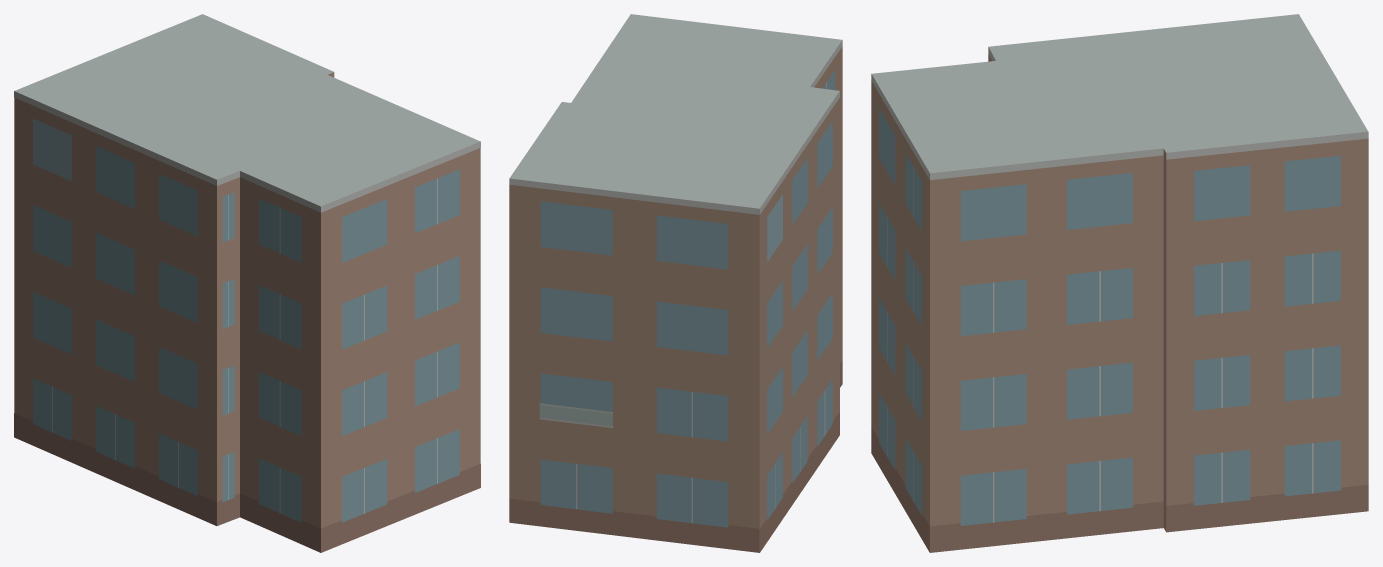
The model's file is survey-upis-32582352.glb.
3 views of the same model, side by side, from view 1: azimuth 30°, elevation 25°; view 2: azimuth 150°, elevation 25°; view 3: azimuth 270°, elevation 25° (orthographic). The views are drawn at different scales.
Parts seen in each view (by area): view 1: survey-upis-32582352.tmp; view 2: survey-upis-32582352.tmp; view 3: survey-upis-32582352.tmp.
Part boxes in pixels (x1,y1,x2,y2): survey-upis-32582352.tmp: (14,14,480,552); survey-upis-32582352.tmp: (509,14,842,552); survey-upis-32582352.tmp: (871,14,1368,552).
Size of the model in its own units: 12.26 by 13.6 by 16.16.
